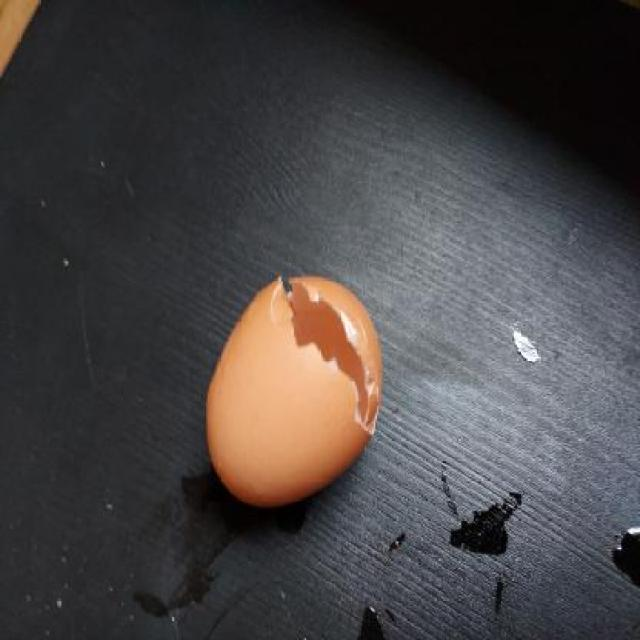biodegradable: (205, 273, 382, 515)
